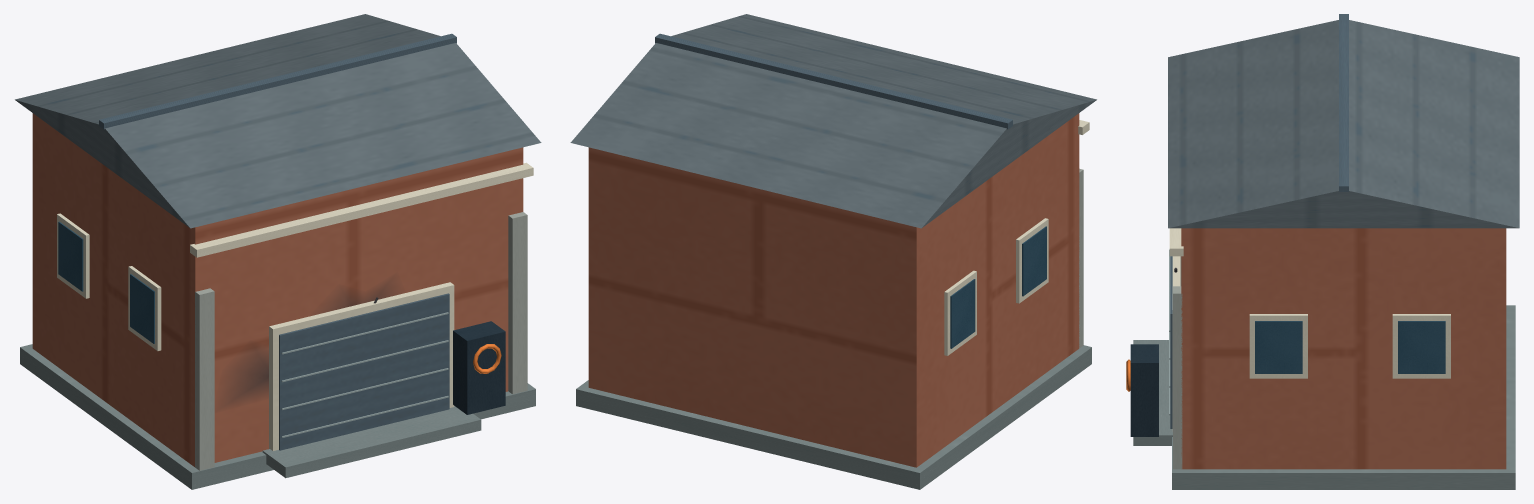
The model's file is workshop-scorched-lod.glb.
The picture shows the model from 3 angles, left to right: view 1: azimuth 30°, elevation 25°; view 2: azimuth 150°, elevation 25°; view 3: azimuth 270°, elevation 25°; orthographic projection.
Parts seen in each view (by area): view 1: workshop-scorched-lod; view 2: workshop-scorched-lod; view 3: workshop-scorched-lod.
Boxes of the visible parts, box(x1,y1,x2,y2) form: workshop-scorched-lod: box(15, 14, 541, 489); workshop-scorched-lod: box(570, 14, 1096, 489); workshop-scorched-lod: box(1126, 14, 1519, 489).
Bounding box in the file's own units: 6.14 × 5.09 × 5.93.
3 materials, 3 textured.
